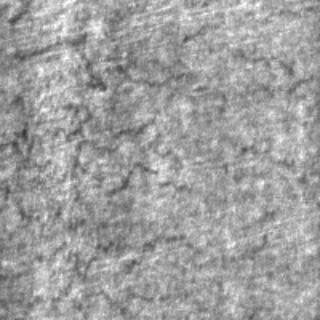crazing: (0, 29, 276, 230), (2, 228, 274, 312)
